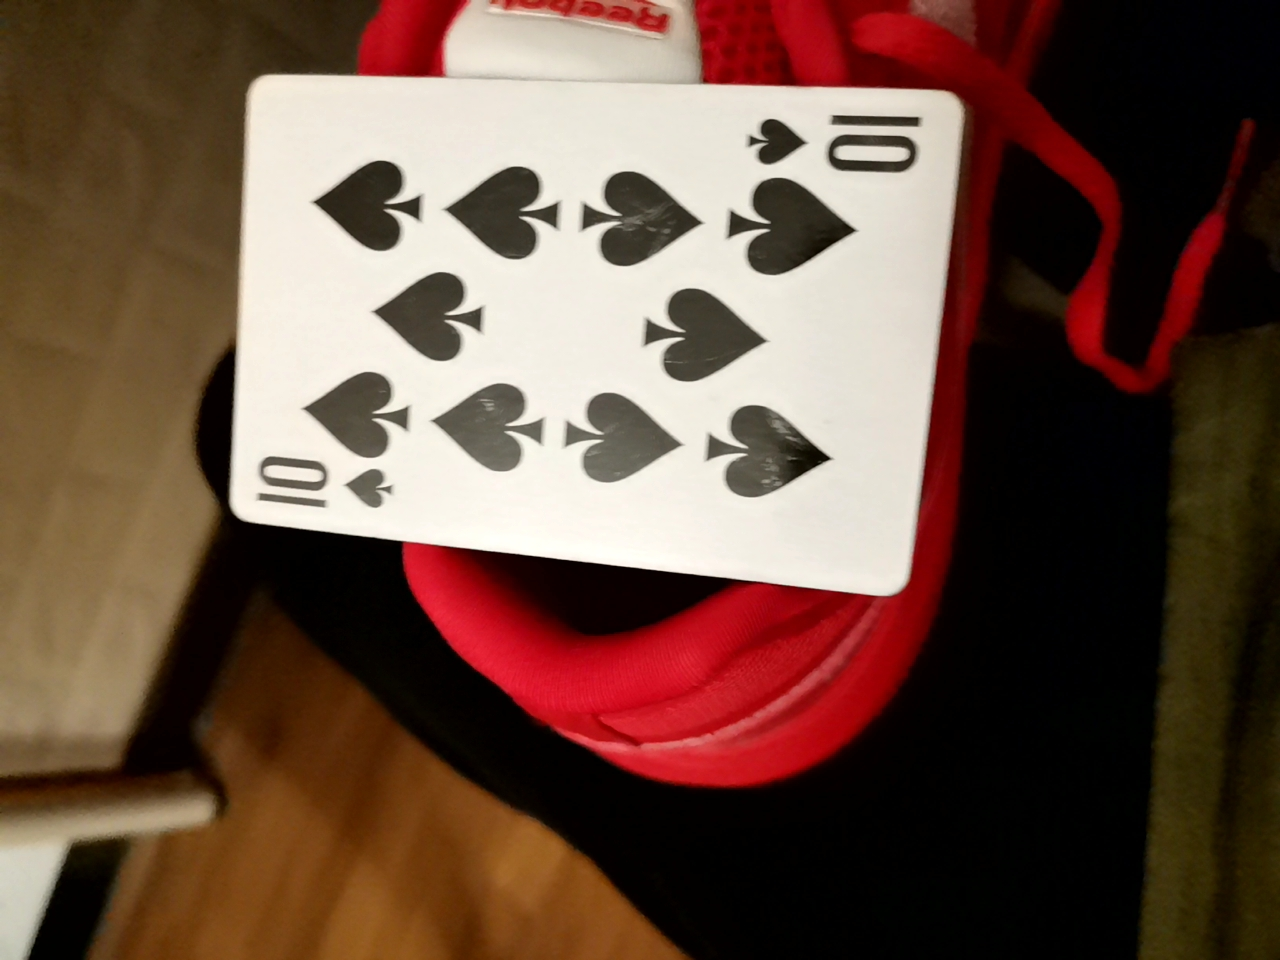ht 10: (207, 72, 944, 601)
